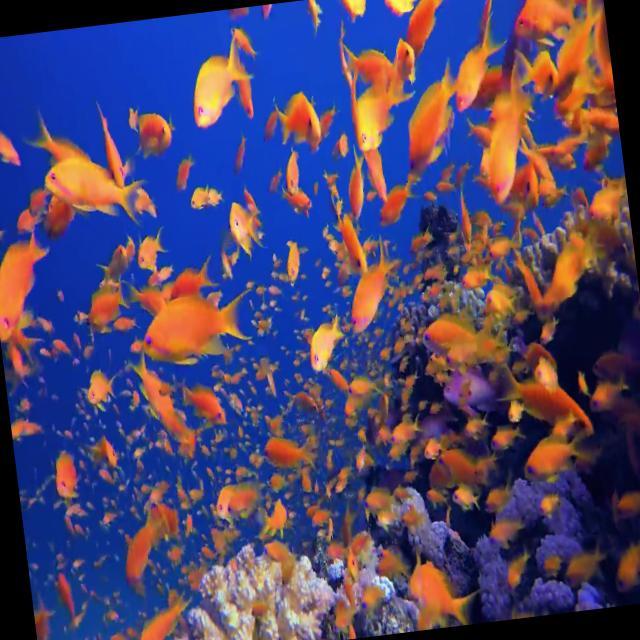fish: (143, 284, 253, 367), (393, 57, 468, 168), (45, 148, 140, 232), (185, 38, 249, 136), (340, 244, 402, 336), (0, 229, 52, 338), (446, 14, 506, 108), (272, 84, 324, 150), (303, 314, 347, 383)
